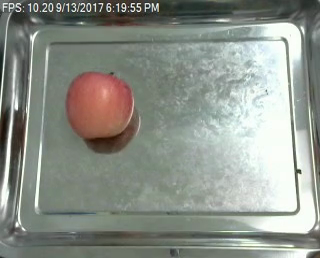Apple: (63, 67, 137, 145)
